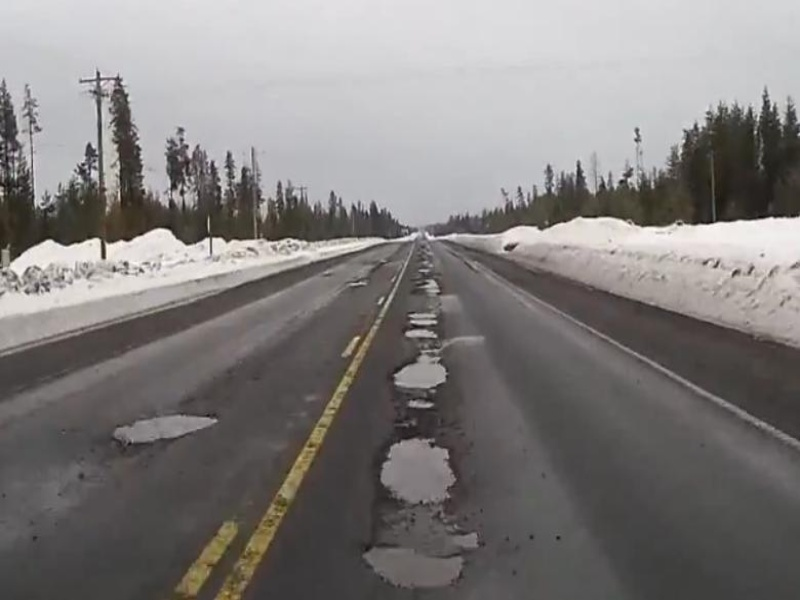pothole: (375, 430, 461, 507), (359, 534, 471, 591), (105, 407, 225, 453), (386, 356, 450, 393), (400, 323, 439, 345), (404, 397, 434, 410)
